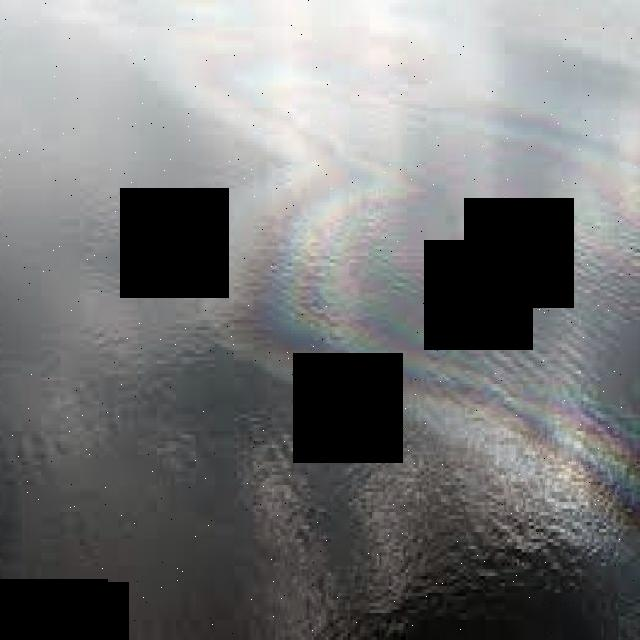oil spill: (268, 109, 638, 510)
